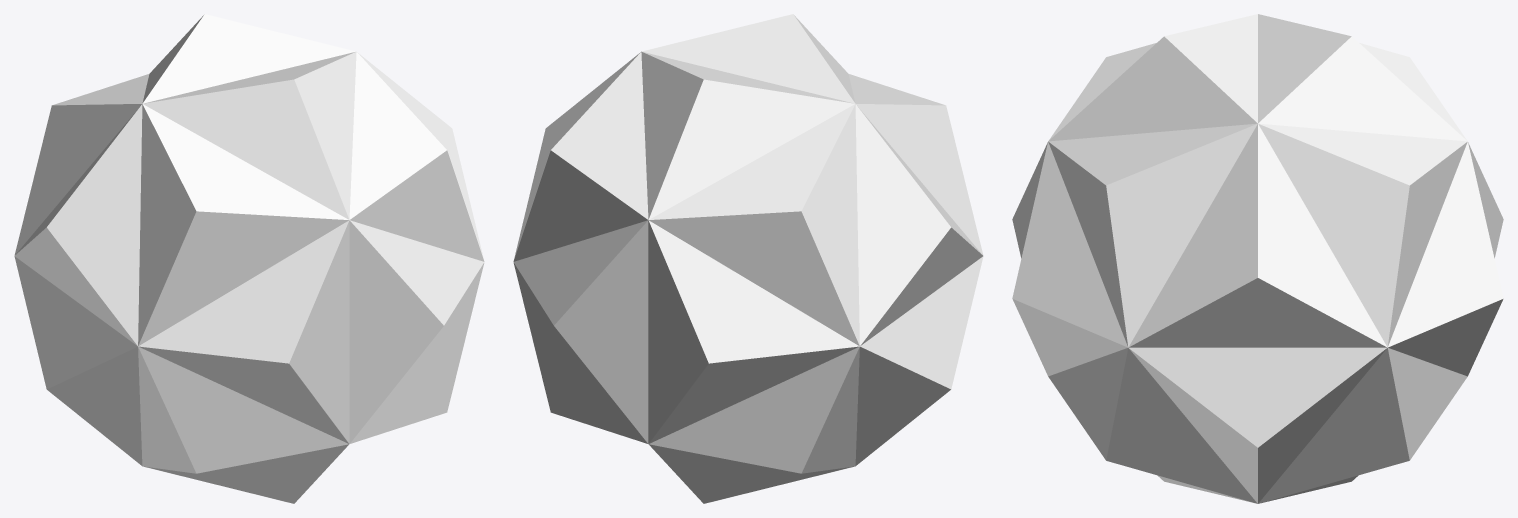
The model's file is small-triambic-icosahedron.gltf.
3 views of the same model, side by side, from view 1: azimuth 30°, elevation 25°; view 2: azimuth 150°, elevation 25°; view 3: azimuth 270°, elevation 25° (orthographic). The views are drawn at different scales.
Visible parts, largest first — view 1: Small Triambic Icosahedron (Dual of 5/2.3.5/2.3.5/2.3), WD70; view 2: Small Triambic Icosahedron (Dual of 5/2.3.5/2.3.5/2.3), WD70; view 3: Small Triambic Icosahedron (Dual of 5/2.3.5/2.3.5/2.3), WD70.
Part boxes in pixels (x1,y1,x2,y2): Small Triambic Icosahedron (Dual of 5/2.3.5/2.3.5/2.3), WD70: [14, 14, 484, 503]; Small Triambic Icosahedron (Dual of 5/2.3.5/2.3.5/2.3), WD70: [513, 14, 983, 503]; Small Triambic Icosahedron (Dual of 5/2.3.5/2.3.5/2.3), WD70: [1012, 14, 1503, 503].
Size of the model in its own units: 23.16 by 23.16 by 23.16.
Materials: 1 (1 with a texture image).
